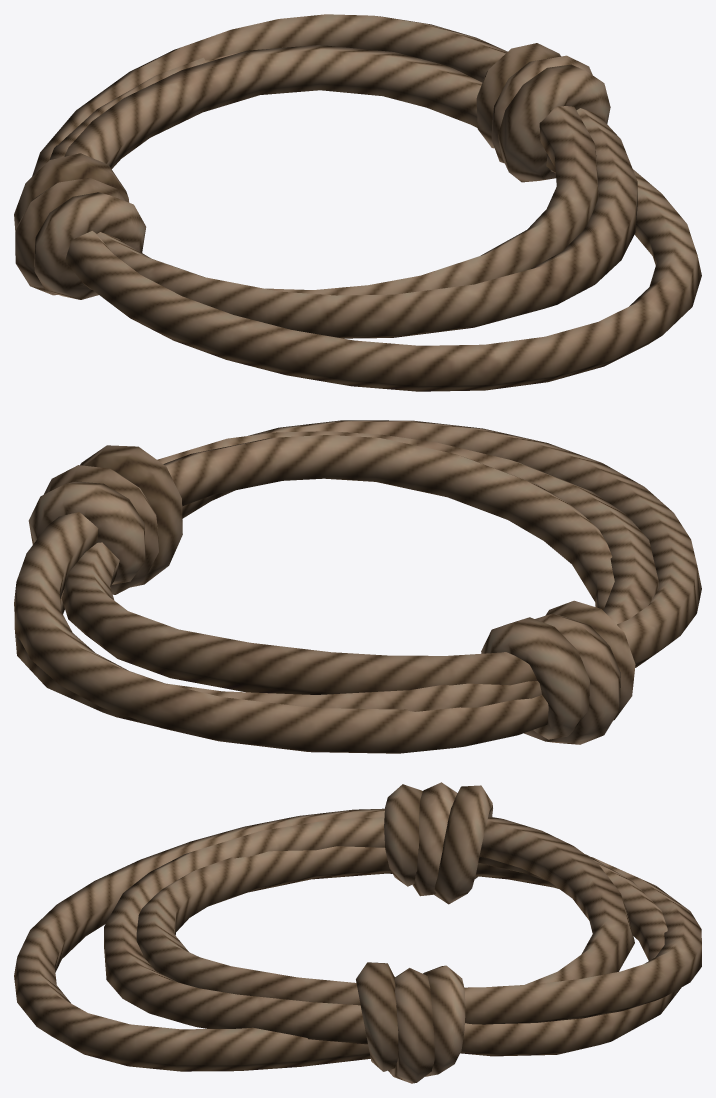
The model's file is camp_rope_01.fbx.
3 renders of one model, top to bottom at view 1: azimuth 30°, elevation 25°; view 2: azimuth 150°, elevation 25°; view 3: azimuth 270°, elevation 25°, orthographic. The views are drawn at different scales.
Parts seen in each view (by area): view 1: camp_rope_01; view 2: camp_rope_01; view 3: camp_rope_01.
Boxes of the visible parts, <box> form: camp_rope_01: <box>14,14,701,391</box>; camp_rope_01: <box>14,420,701,753</box>; camp_rope_01: <box>14,782,701,1083</box>.
Size of the model in its own units: 66.92 by 16.1 by 77.22.
